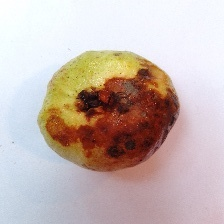guava: (45, 45, 220, 184)
